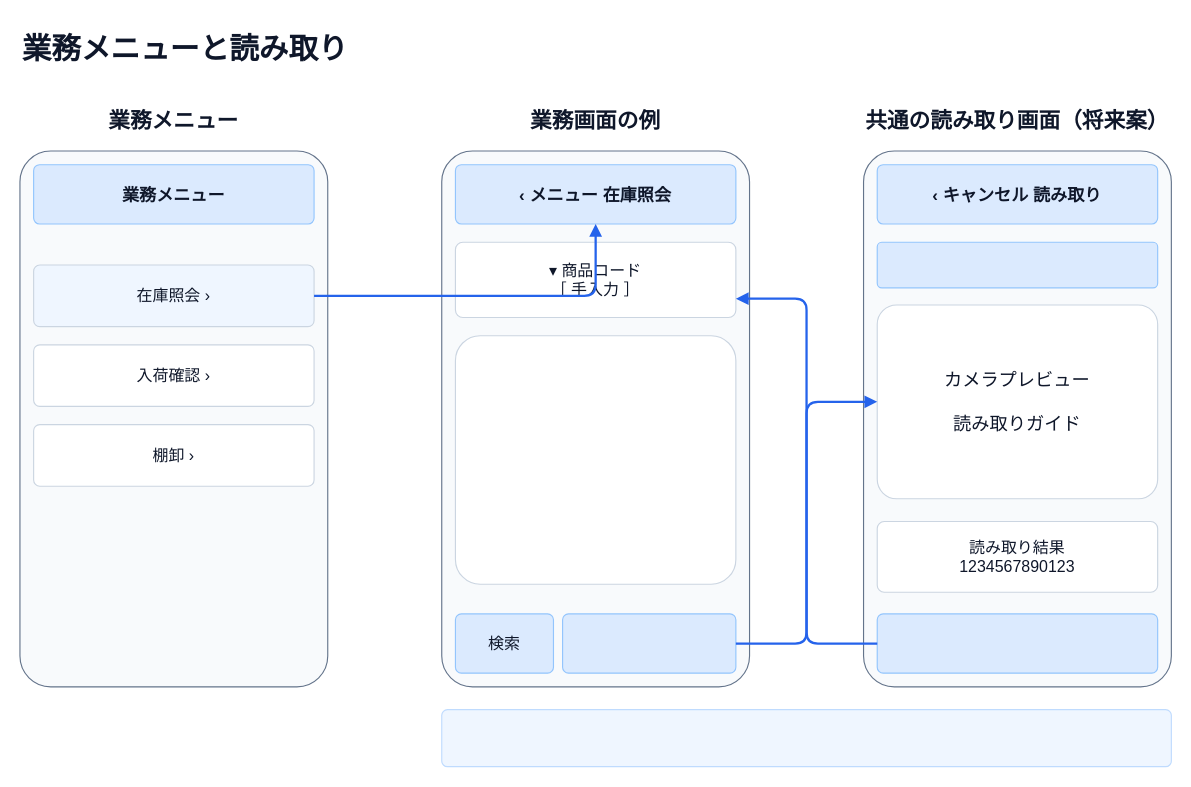
Image size: 1191x787. Some labels were removed from this diagram. The box of each missing label's shape, as (x1, y1, x2, y2) in pixels:
この結果を使用: (876, 613, 1158, 673)
バーコード ／ OCR: (876, 241, 1158, 288)
バーコード・OCR 読み取り: (561, 613, 736, 673)
結果カード一覧: (454, 335, 736, 584)
認識方式・メーカー SDK の方針決定後に確定。結果の確定で呼び出し元の入力欄に反映。: (441, 709, 1171, 767)
